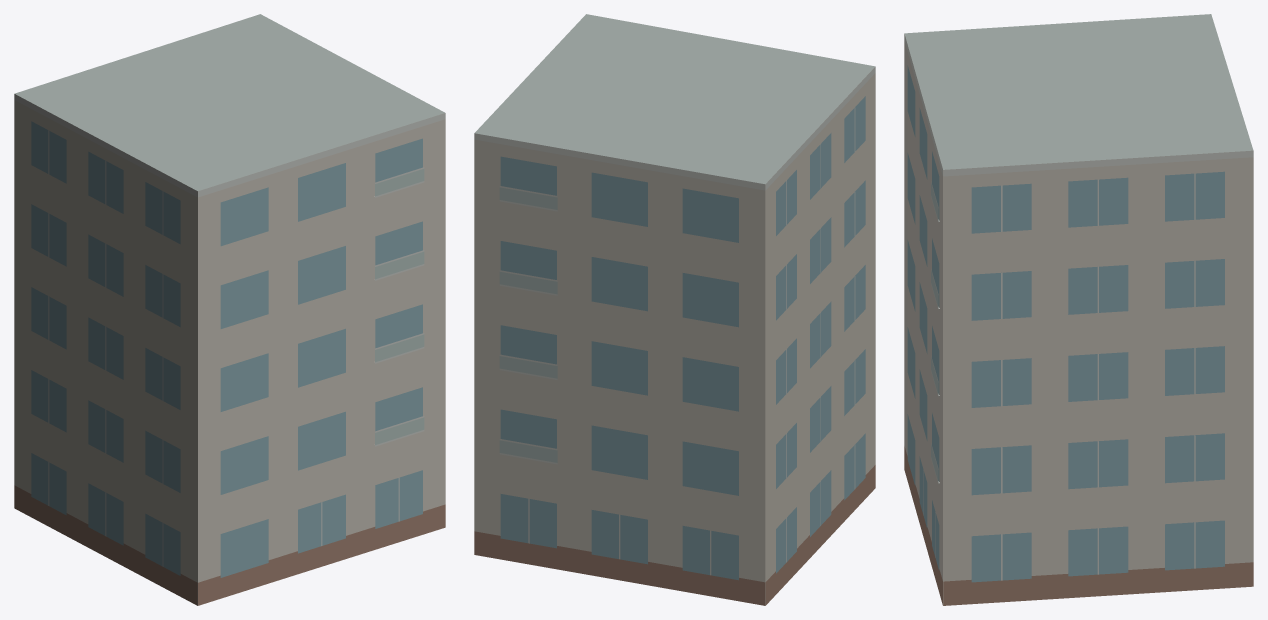
The model's file is survey-upis-32532878.glb.
3 views of the same model, side by side, from view 1: azimuth 30°, elevation 25°; view 2: azimuth 150°, elevation 25°; view 3: azimuth 270°, elevation 25° (orthographic). The views are drawn at different scales.
Visible parts, largest first — view 1: survey-upis-32532878.tmp; view 2: survey-upis-32532878.tmp; view 3: survey-upis-32532878.tmp.
Boxes of the visible parts, left/top/right/bottom form: survey-upis-32532878.tmp: left=14, top=14, right=445, bottom=605; survey-upis-32532878.tmp: left=474, top=14, right=875, bottom=605; survey-upis-32532878.tmp: left=904, top=14, right=1253, bottom=605.
Size of the model in its own units: 12.43 by 16.2 by 11.77.
